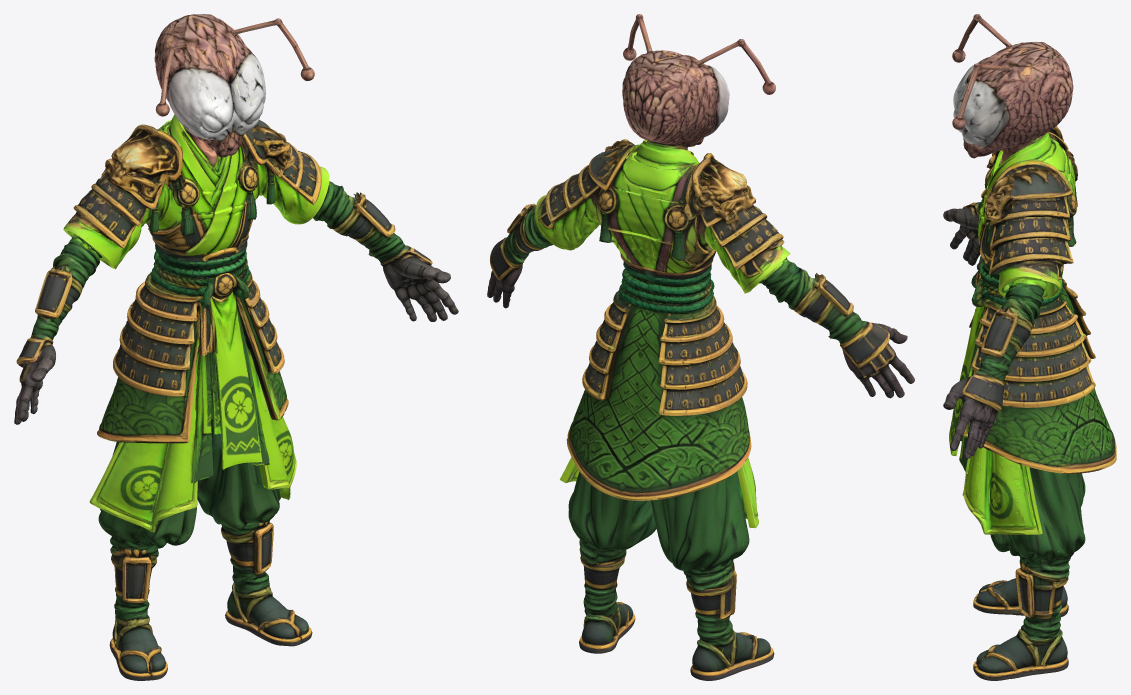
Rendered from rebel_4998_static_source_shogun_v3_multiview.glb.
3 renders of one model, left to right at view 1: azimuth 30°, elevation 25°; view 2: azimuth 150°, elevation 25°; view 3: azimuth 270°, elevation 25°, orthographic. The views are drawn at different scales.
Visible parts, largest first — view 1: Mesh_0; view 2: Mesh_0; view 3: Mesh_0.
Part boxes in pixels (box(x1,y1,x2,y2)): Mesh_0: box(14, 14, 458, 680); Mesh_0: box(487, 14, 914, 680); Mesh_0: box(943, 14, 1116, 680).
Size of the model in its own units: 1.39 by 1.9 by 0.4983.
Materials: 1 (1 with a texture image).
